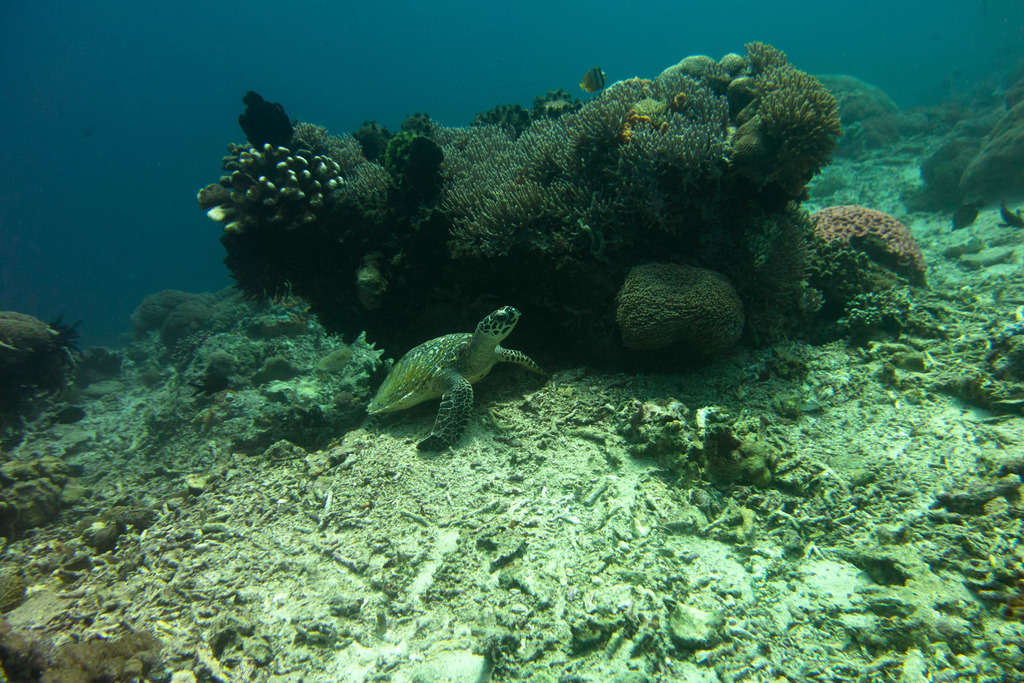Sea turtles: (361, 297, 548, 452)
